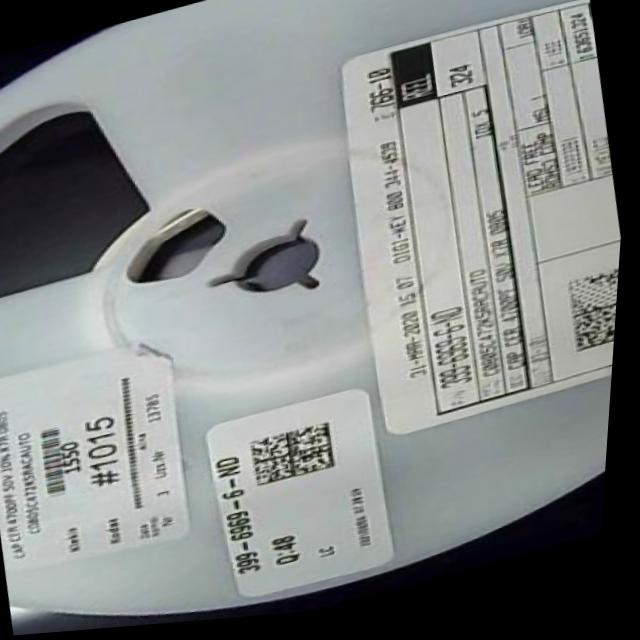datamatrix: (253, 424, 348, 495), (562, 275, 624, 367)
